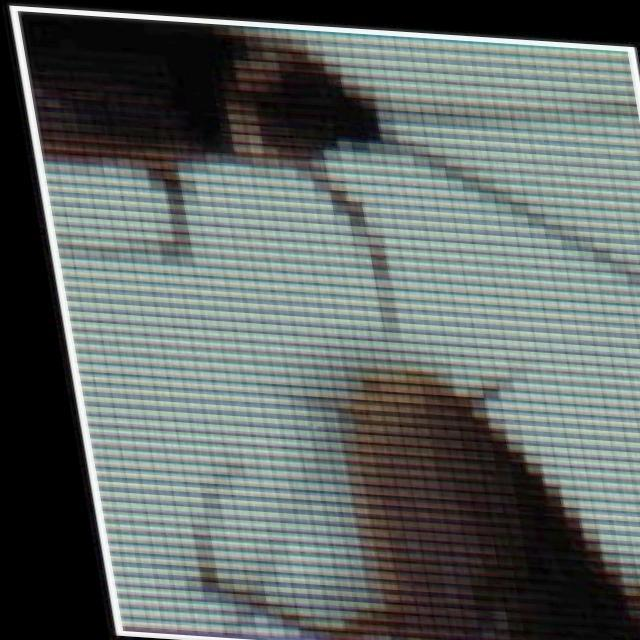cockroach: (250, 222, 640, 640), (0, 0, 417, 294)
